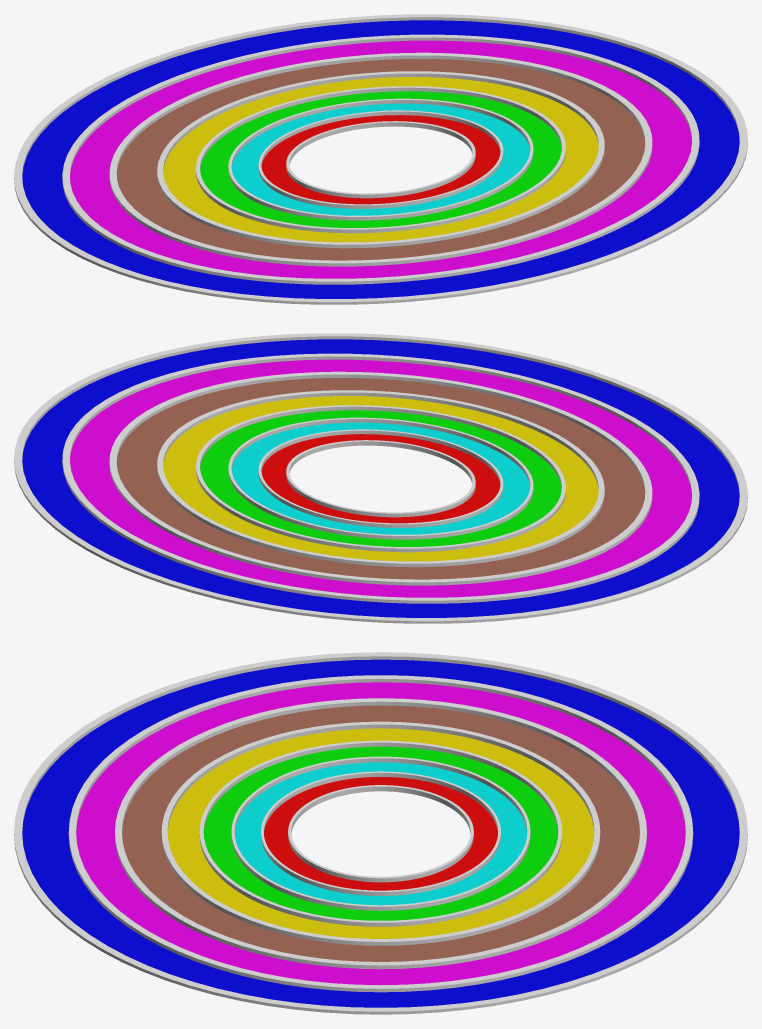
The model's file is san_2.fbx.
3 views of the same model, one above another, from view 1: azimuth 30°, elevation 25°; view 2: azimuth 150°, elevation 25°; view 3: azimuth 270°, elevation 25° (orthographic). The views are drawn at different scales.
Visible parts, largest first — view 1: san_2vong_7, san_2vong_6, san_2vong_5, san_2vong_4, san_2vong_3, san_2vong_2, san_2vong_1; view 2: san_2vong_7, san_2vong_6, san_2vong_5, san_2vong_4, san_2vong_3, san_2vong_2, san_2vong_1; view 3: san_2vong_7, san_2vong_6, san_2vong_5, san_2vong_4, san_2vong_3, san_2vong_2, san_2vong_1.
Part boxes in pixels (left/top/right/bottom): san_2vong_7: left=14, top=14, right=747, bottom=304; san_2vong_6: left=62, top=34, right=699, bottom=284; san_2vong_5: left=109, top=52, right=652, bottom=266; san_2vong_4: left=157, top=71, right=604, bottom=248; san_2vong_3: left=196, top=86, right=565, bottom=233; san_2vong_2: left=228, top=98, right=533, bottom=220; san_2vong_1: left=258, top=110, right=503, bottom=208; san_2vong_7: left=14, top=333, right=747, bottom=623; san_2vong_6: left=62, top=353, right=699, bottom=603; san_2vong_5: left=109, top=371, right=652, bottom=585; san_2vong_4: left=157, top=390, right=604, bottom=567; san_2vong_3: left=196, top=405, right=565, bottom=552; san_2vong_2: left=228, top=417, right=533, bottom=539; san_2vong_1: left=258, top=429, right=503, bottom=527; san_2vong_7: left=14, top=652, right=747, bottom=1014; san_2vong_6: left=68, top=675, right=693, bottom=992; san_2vong_5: left=115, top=698, right=646, bottom=969; san_2vong_4: left=161, top=721, right=600, bottom=945; san_2vong_3: left=199, top=740, right=562, bottom=926; san_2vong_2: left=231, top=756, right=530, bottom=910; san_2vong_1: left=261, top=771, right=500, bottom=895.
Size of the model in its own units: 112 by 0.6916 by 97.04.
